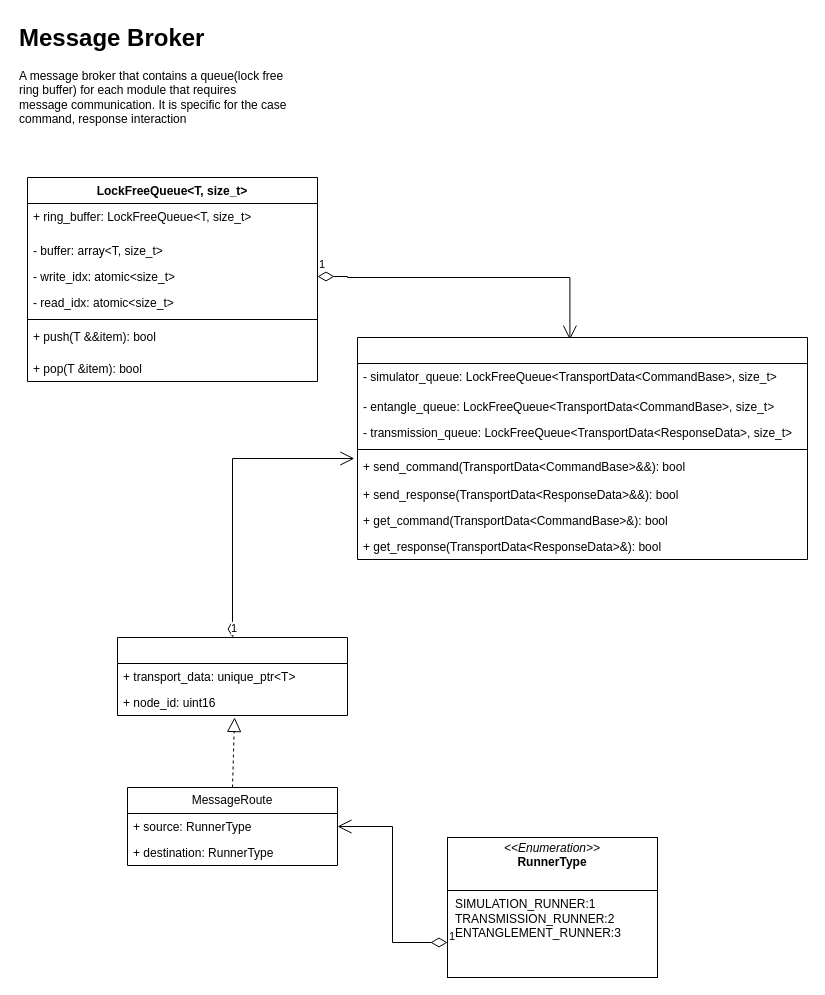
The diagram is 825 pixels wide and 995 high, and some of its shapes have lost their labels. Each missing label, with the box of its shape:
MessageBroker: (356, 336, 808, 560)
TransportData<T>: (116, 636, 348, 716)
